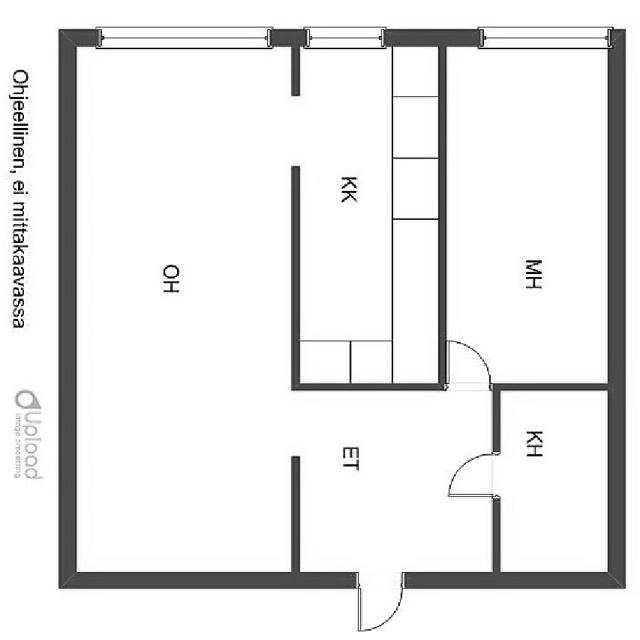door: (438, 434, 507, 521), (343, 569, 424, 634), (434, 330, 498, 403)
window: (76, 13, 288, 72), (464, 12, 612, 60), (296, 14, 398, 48)
zone: (67, 38, 301, 578), (440, 41, 604, 390), (292, 41, 442, 392), (298, 390, 499, 584), (492, 384, 612, 583)
